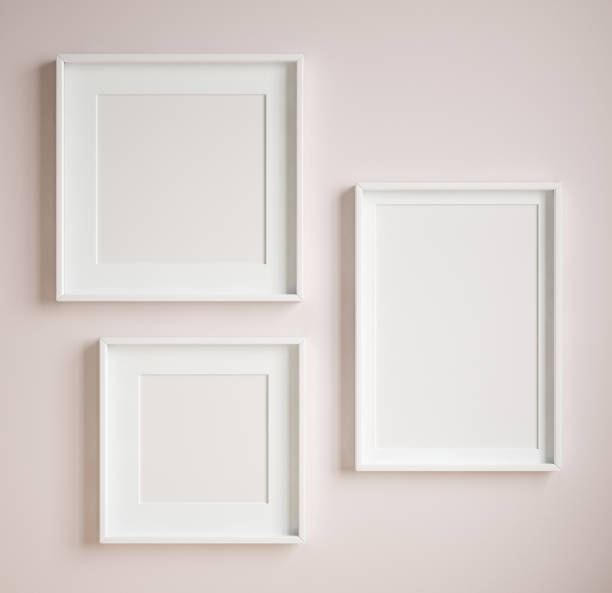dikdortgen: (356, 180, 555, 470)
kare: (56, 50, 300, 297), (96, 336, 307, 544)
